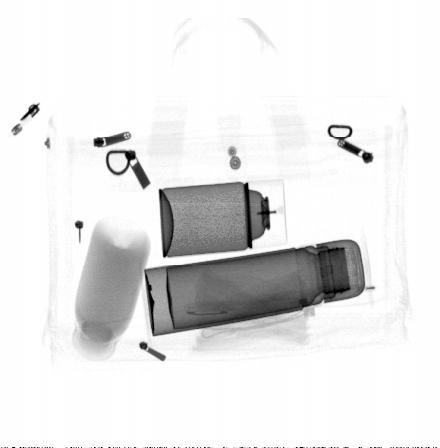Sprayer: (158, 176, 288, 259)
